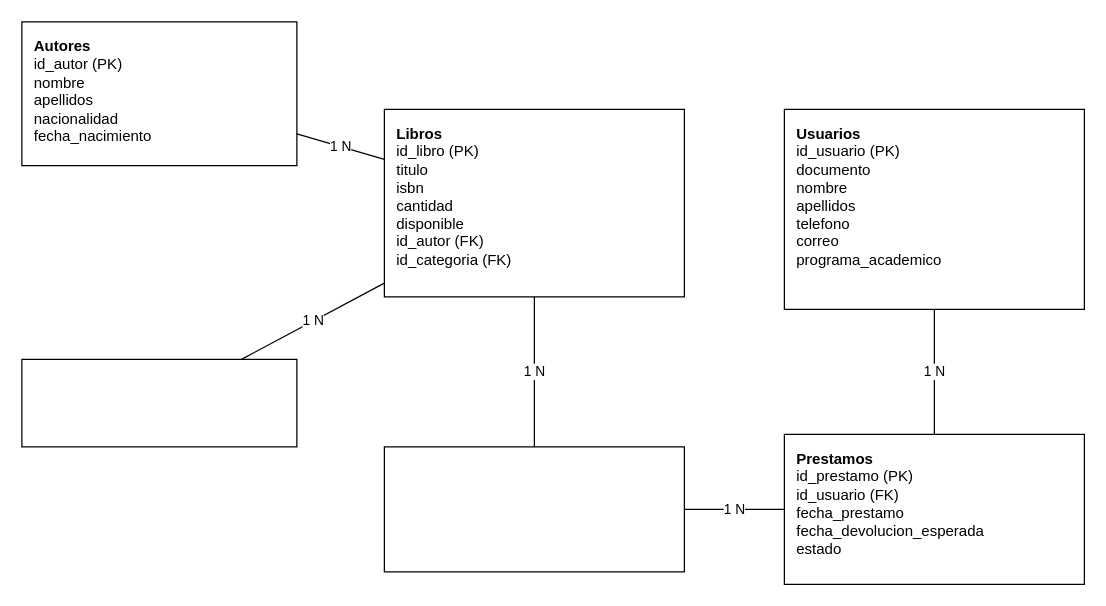
This 1106x606 diagram has some shape labels left out. Each missing label, with the centre of its shape:
Categorias id_categoria (PK) nombre: the point at 159,402
DetallePrestamos id_detalle (PK) id_prestamo (FK) id_libro (FK) cantidad: the point at 533,509
